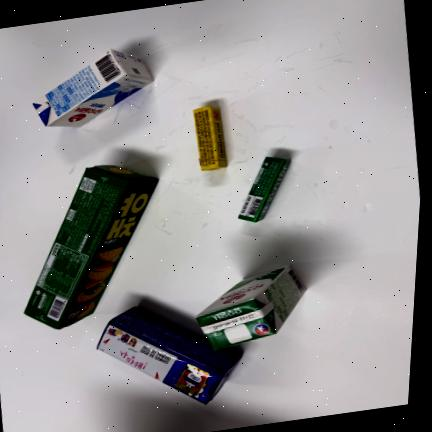cracker_ace: (96, 306, 242, 403)
cracker_vege: (25, 164, 158, 328)
gum_green: (237, 156, 290, 222)
gum_yellow: (194, 105, 227, 171)
milk_blue: (31, 50, 155, 127)
milk_green: (196, 265, 307, 350)
